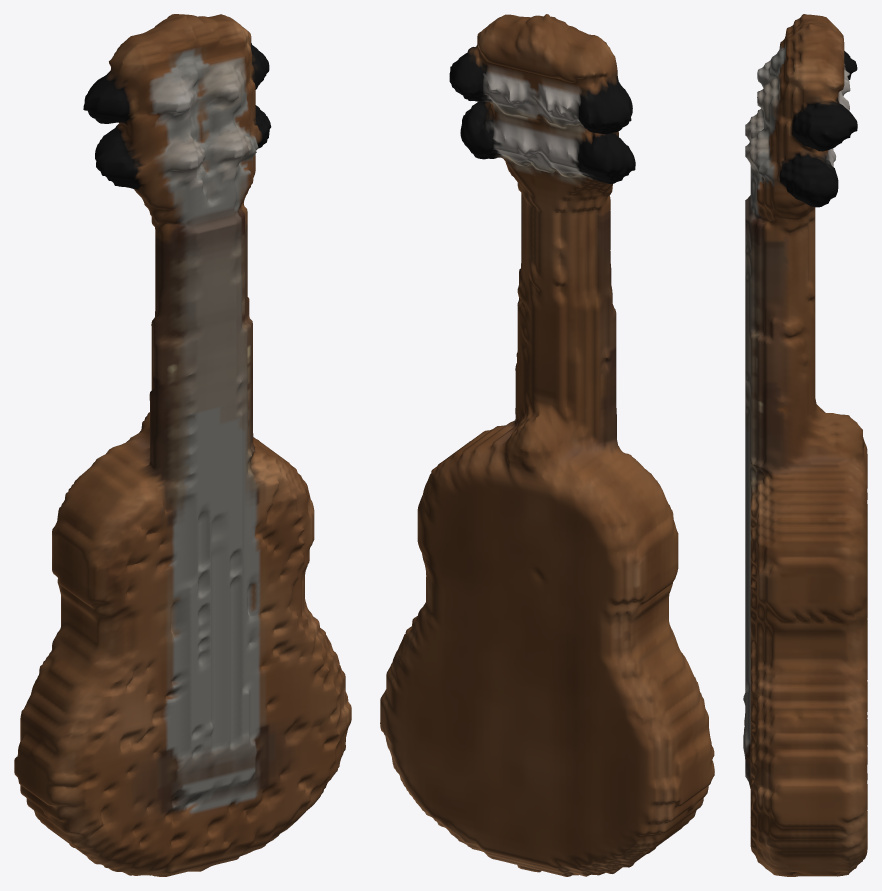
File: ukulele.glb
The picture shows the model from 3 angles, left to right: view 1: azimuth 30°, elevation 25°; view 2: azimuth 150°, elevation 25°; view 3: azimuth 270°, elevation 25°; orthographic projection.
Visible parts, largest first — view 1: ukulele; view 2: ukulele; view 3: ukulele.
Part boxes in pixels (left/top/right/bottom): ukulele: left=14, top=14, right=351, bottom=876; ukulele: left=380, top=14, right=714, bottom=876; ukulele: left=743, top=14, right=867, bottom=876.
Bounding box in the file's own units: 0.0371 × 0.1 × 0.0136.
